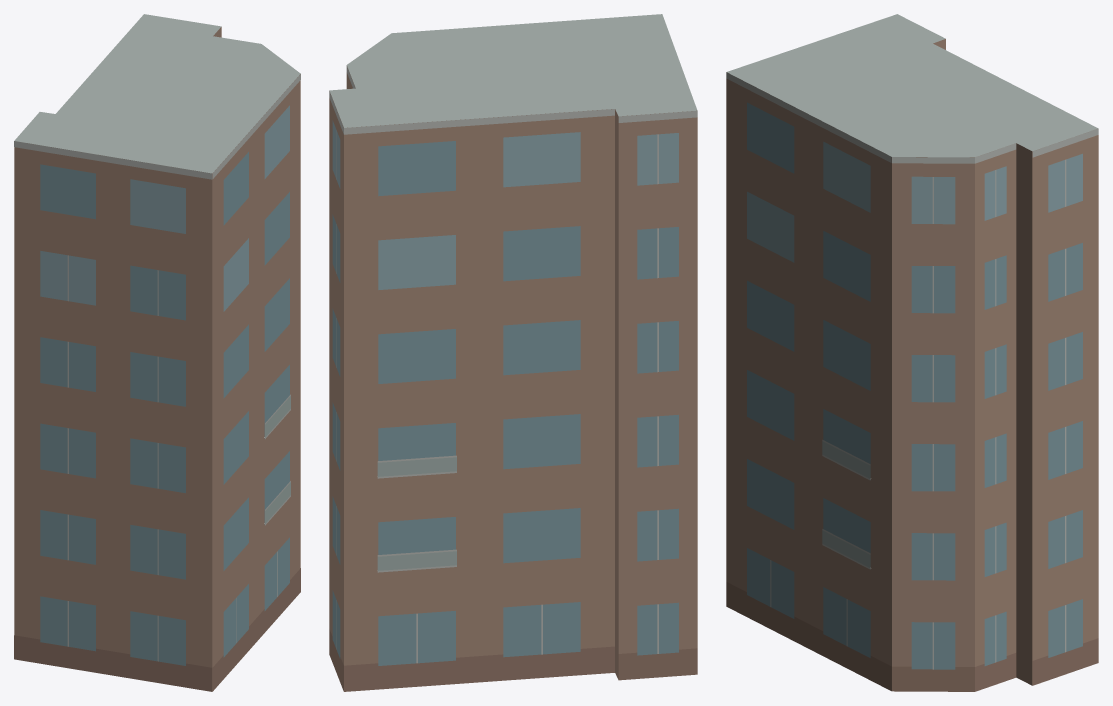
Rendered from survey-upis-32646721.glb.
The picture shows the model from 3 angles, left to right: view 1: azimuth 30°, elevation 25°; view 2: azimuth 150°, elevation 25°; view 3: azimuth 270°, elevation 25°; orthographic projection. The views are drawn at different scales.
Visible parts, largest first — view 1: survey-upis-32646721.tmp; view 2: survey-upis-32646721.tmp; view 3: survey-upis-32646721.tmp.
Boxes of the visible parts, left/top/right/bottom form: survey-upis-32646721.tmp: left=14, top=14, right=300, bottom=691; survey-upis-32646721.tmp: left=329, top=14, right=697, bottom=691; survey-upis-32646721.tmp: left=726, top=14, right=1098, bottom=691.
Bounding box in the file's own units: 11.75 × 20.4 × 12.88.
